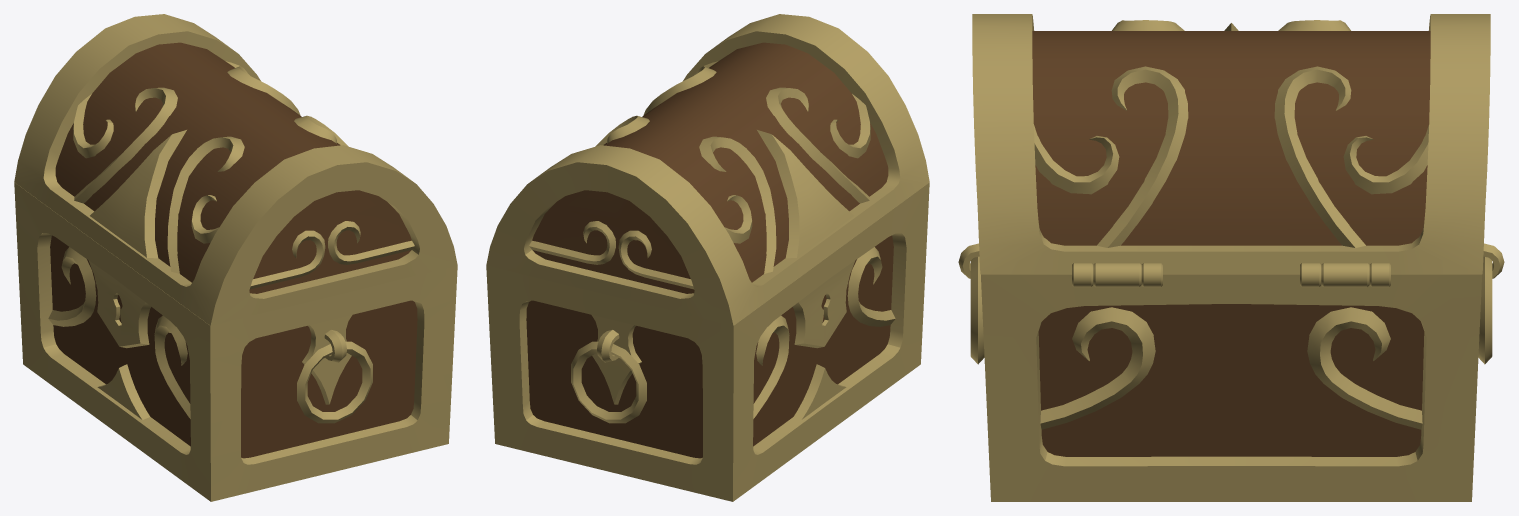
Rendered from Chest.fbx.
3 renders of one model, left to right at view 1: azimuth 30°, elevation 25°; view 2: azimuth 150°, elevation 25°; view 3: azimuth 270°, elevation 25°, orthographic. The views are drawn at different scales.
Visible parts, largest first — view 1: Treasure_chest; view 2: Treasure_chest; view 3: Treasure_chest.
Part boxes in pixels (x1,y1,x2,y2): Treasure_chest: (14, 14, 457, 501); Treasure_chest: (486, 14, 929, 501); Treasure_chest: (958, 14, 1504, 501).
Size of the model in its own units: 556 by 646 by 797.
